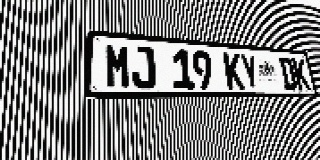1: (171, 48, 195, 89)
9: (191, 50, 215, 89)
D: (278, 57, 298, 89)
J: (131, 45, 156, 89)
K: (223, 53, 245, 89), (291, 58, 311, 90)
M: (105, 43, 132, 89)
Y: (240, 54, 261, 89)
